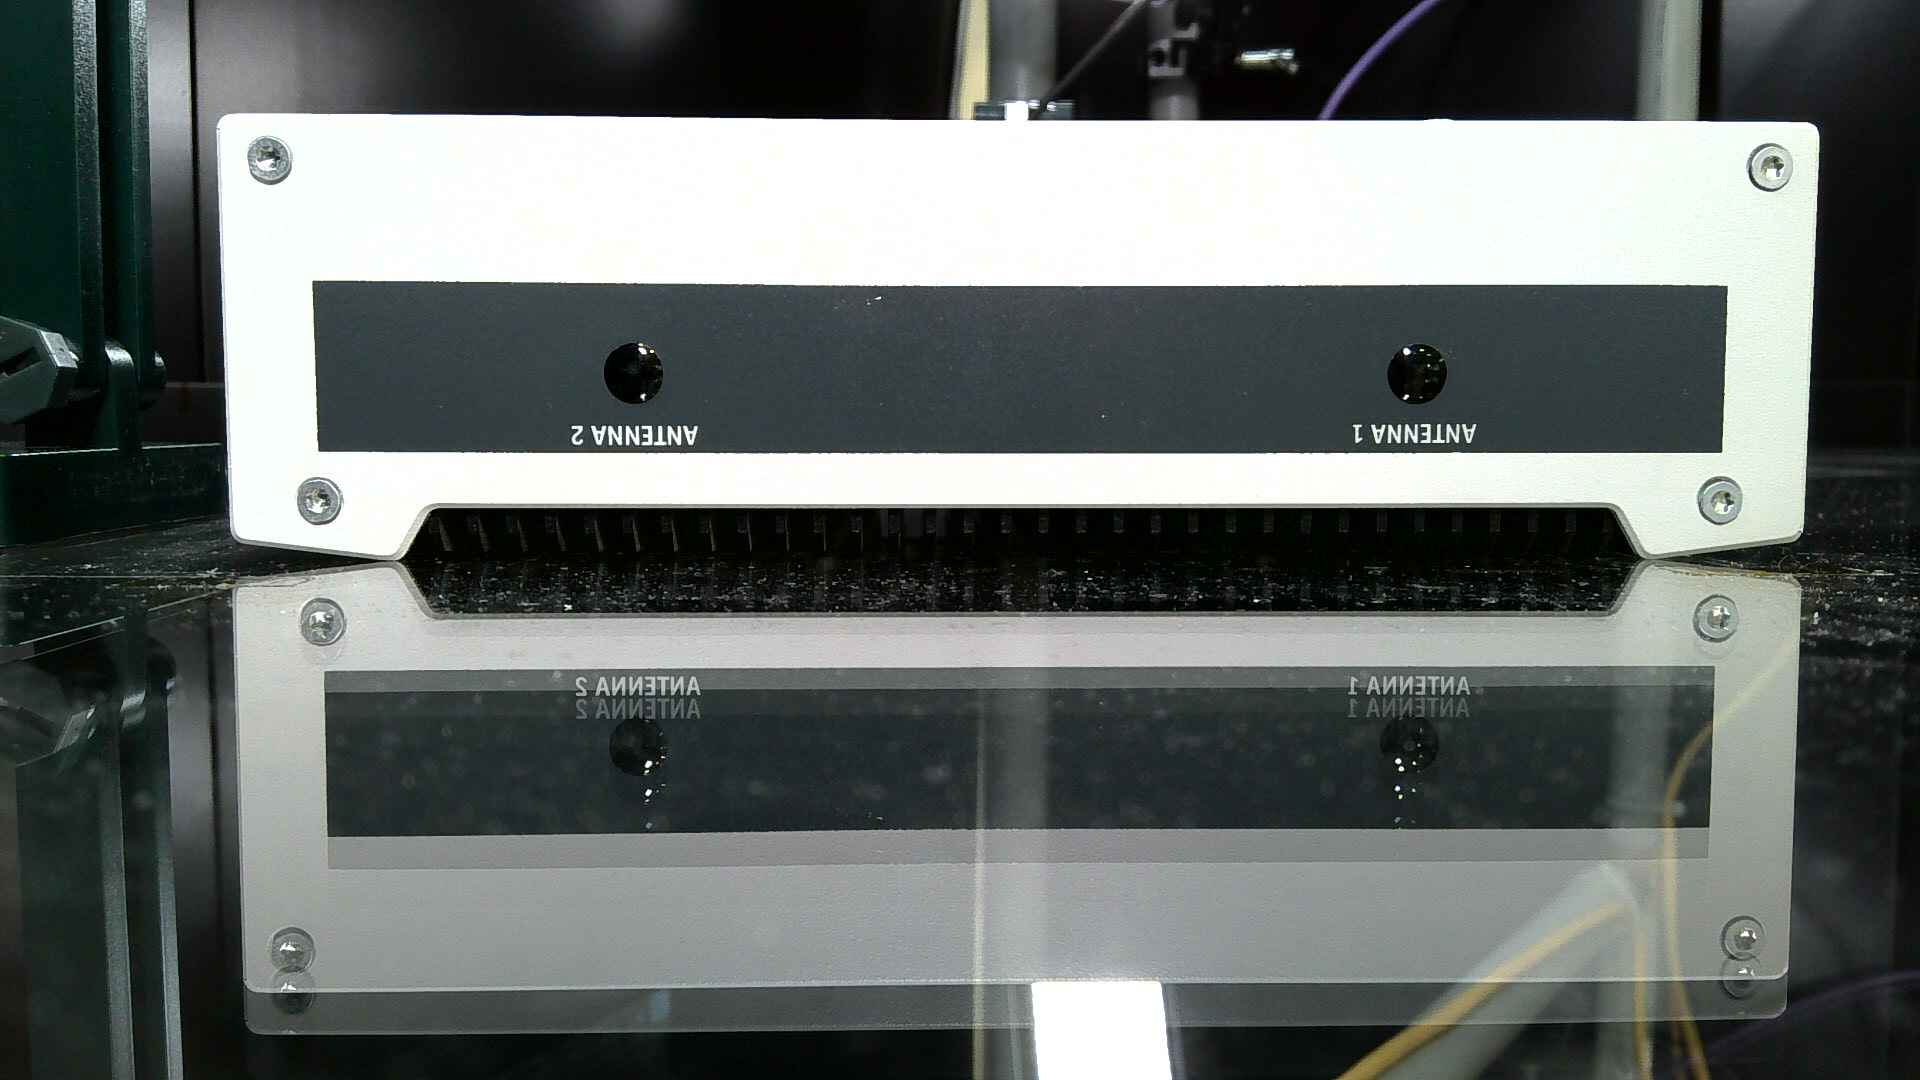CamBack: (175, 74, 1859, 564)
Schraube_gespiegelt: (1709, 905, 1778, 1009), (257, 916, 322, 1025), (291, 591, 353, 679), (1684, 585, 1749, 666)
Schraube_halb: (1684, 468, 1755, 534), (1735, 133, 1803, 200), (235, 127, 301, 191), (287, 467, 351, 534)
